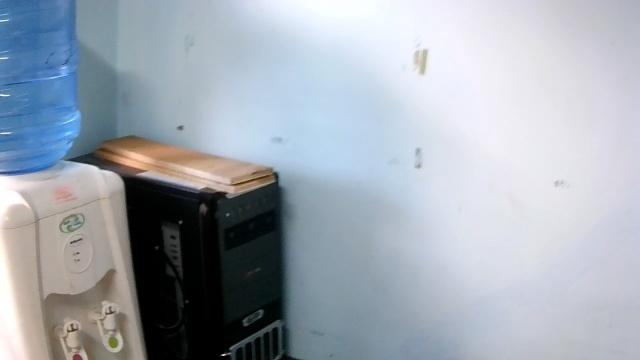Dispenser: (0, 0, 148, 358)
